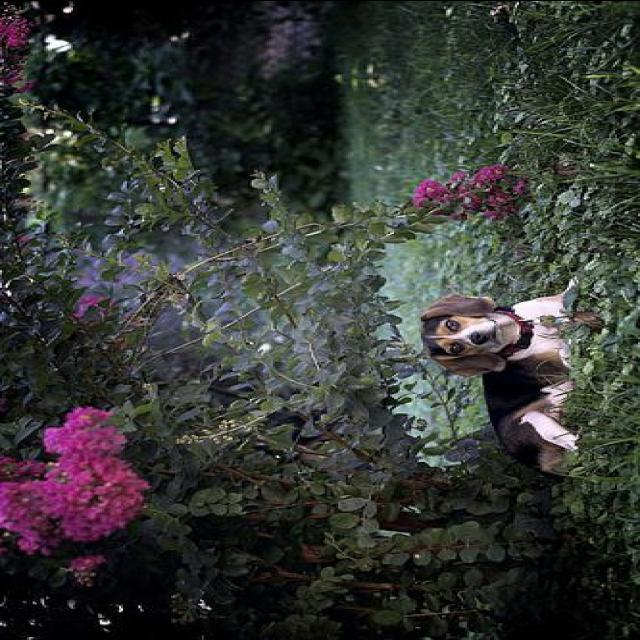beagle: (417, 276, 594, 474)
